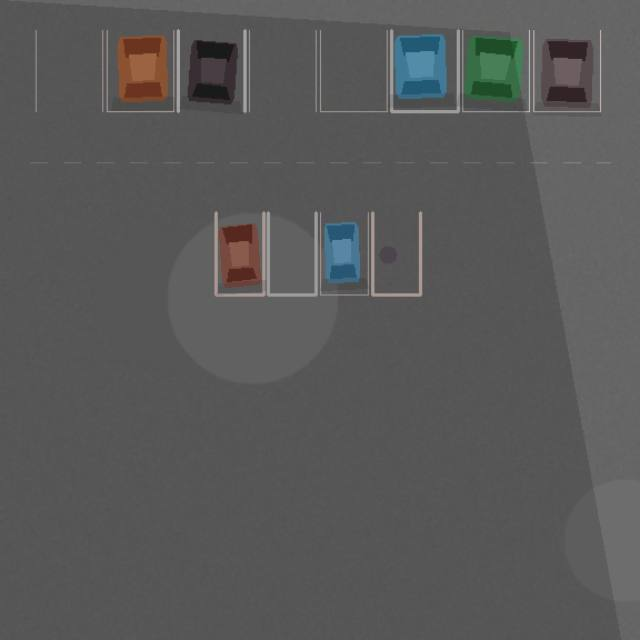space-empty: (249, 30, 316, 111), (320, 30, 387, 111), (36, 30, 102, 111), (268, 212, 316, 294), (372, 212, 420, 294)
space-occupied: (391, 30, 458, 111), (462, 30, 529, 111), (533, 30, 600, 111), (107, 30, 173, 111), (178, 30, 244, 111), (320, 212, 368, 294), (216, 212, 263, 294)
